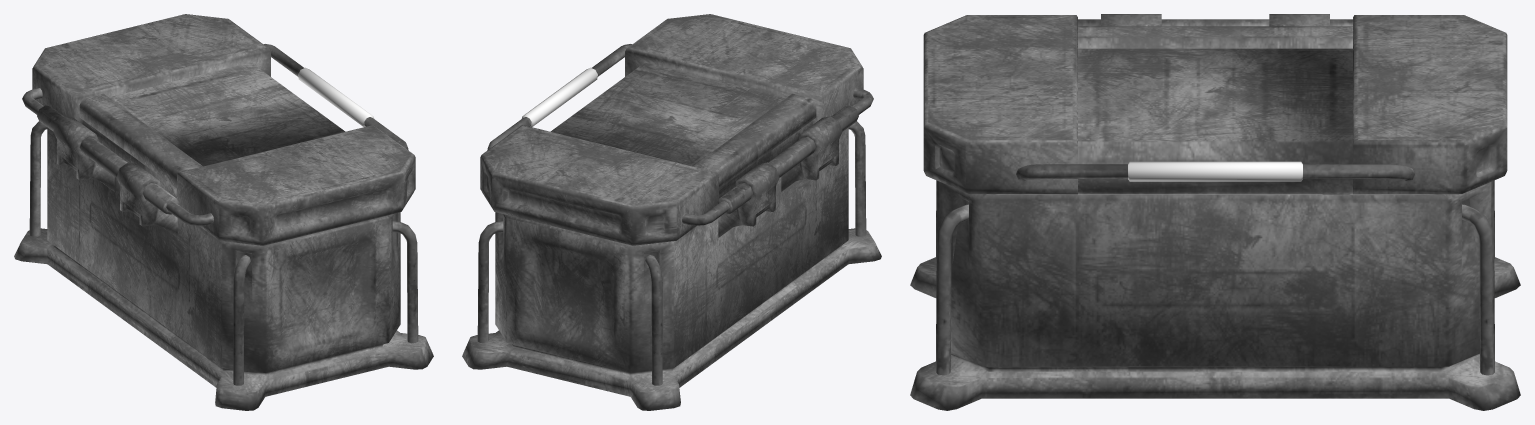
File: crate2.fbx
The picture shows the model from 3 angles, left to right: view 1: azimuth 30°, elevation 25°; view 2: azimuth 150°, elevation 25°; view 3: azimuth 270°, elevation 25°; orthographic projection. The views are drawn at different scales.
Parts seen in each view (by area): view 1: Cylinder.005, Cylinder.000, Cylinder.001; view 2: Cylinder.005, Cylinder.000, Cylinder.001; view 3: Cylinder.005, Cylinder.000, Cylinder.001.
Boxes of the visible parts, <box> form: Cylinder.005: <box>14,116,433,410</box>; Cylinder.000: <box>22,14,415,245</box>; Cylinder.001: <box>37,105,179,214</box>; Cylinder.005: <box>462,116,881,410</box>; Cylinder.000: <box>480,14,873,245</box>; Cylinder.001: <box>716,105,858,214</box>; Cylinder.005: <box>910,14,1520,410</box>; Cylinder.000: <box>923,15,1507,194</box>; Cylinder.001: <box>1078,19,1352,26</box>.
Bounding box in the file's own units: 276 × 210 × 443.
